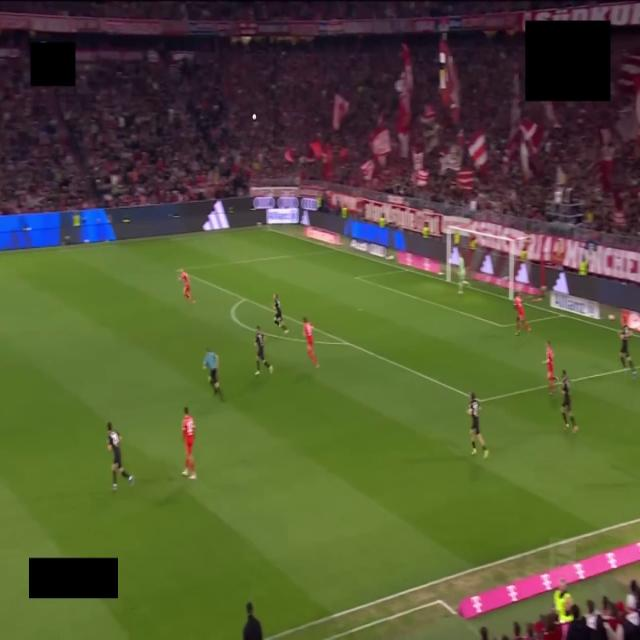player: (107, 423, 133, 490), (467, 392, 488, 457), (561, 370, 578, 433), (182, 408, 196, 479), (620, 325, 636, 377), (255, 327, 272, 375), (303, 318, 318, 367), (543, 342, 557, 394), (514, 295, 531, 335), (274, 294, 288, 334), (179, 269, 194, 302), (458, 256, 467, 294)
referee: (203, 349, 223, 400)
